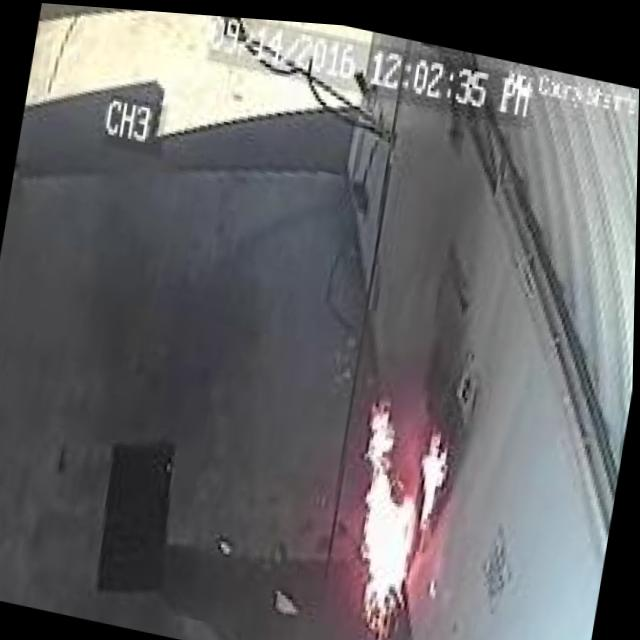fire: (321, 375, 471, 640)
